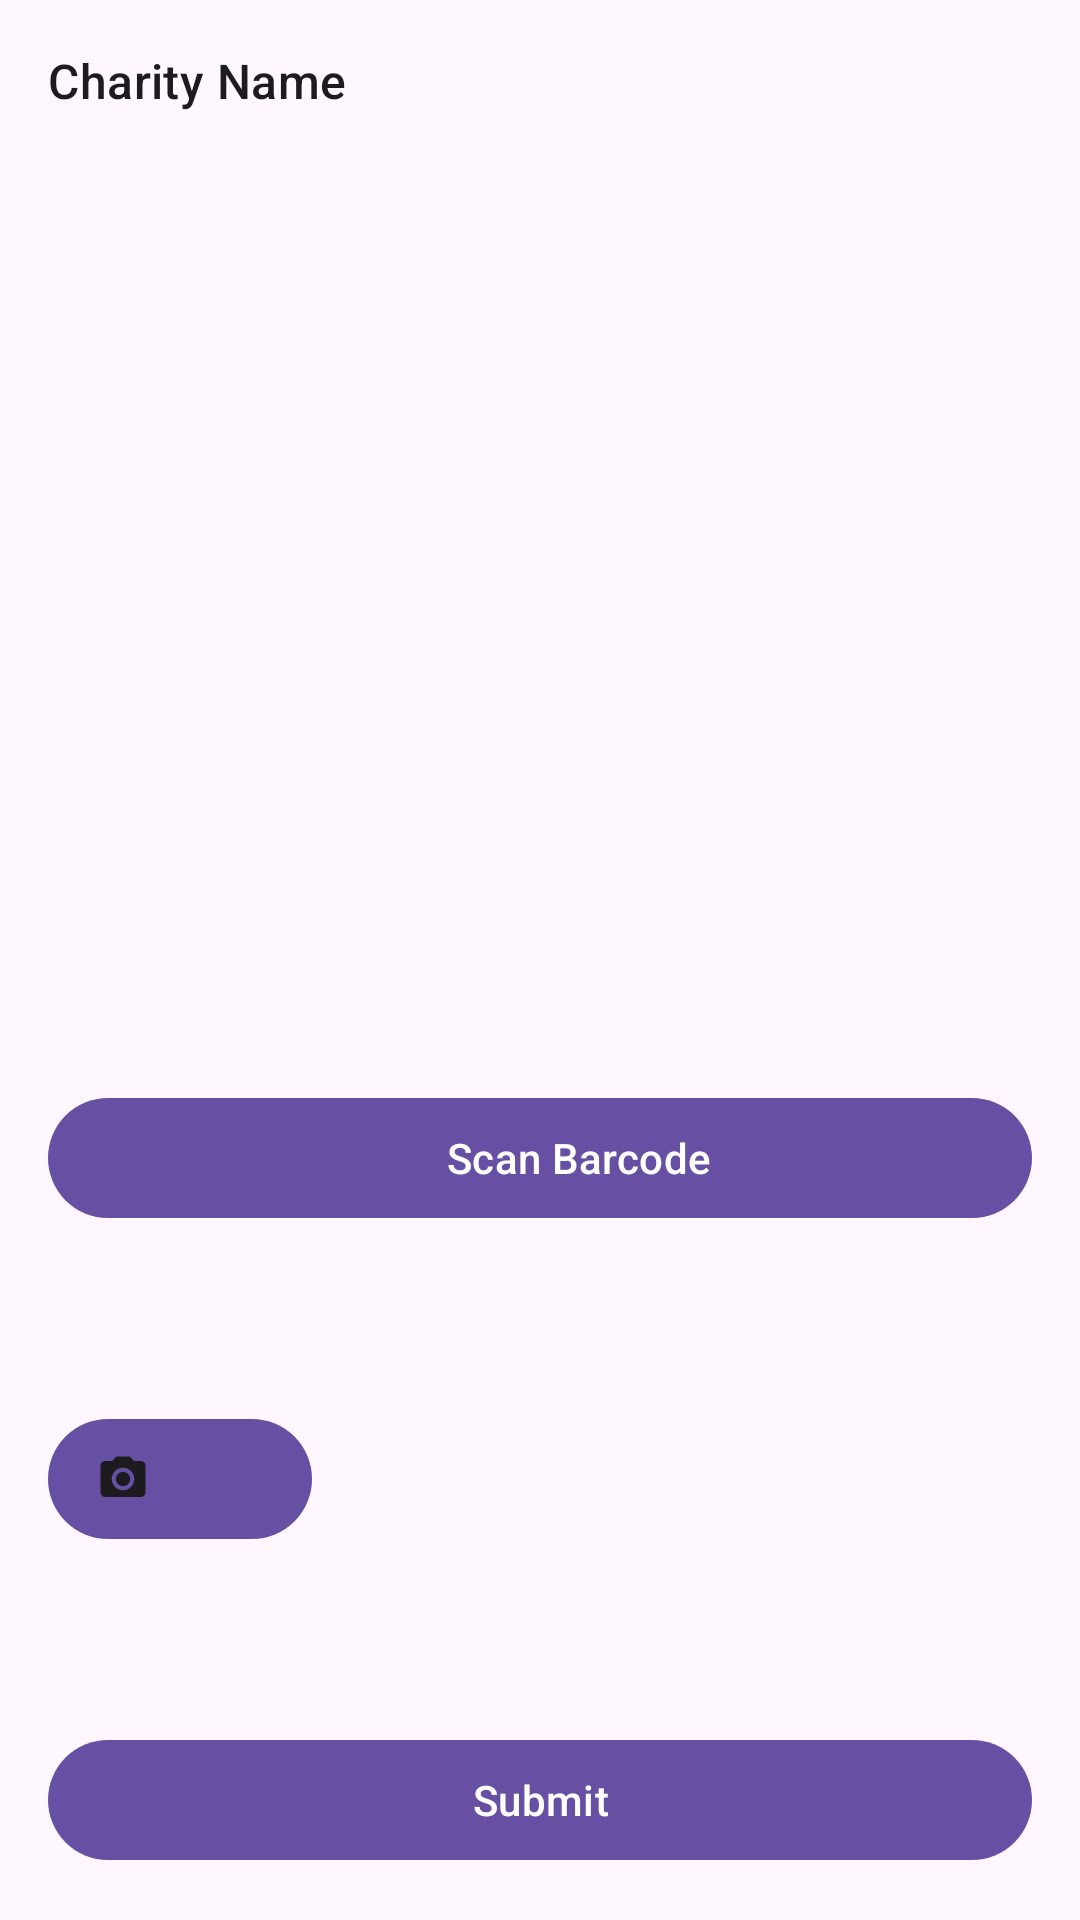

Where to tap for icons on this 1080w x 1920h app screen, as point (x, y):
photo camera: point (180, 1479)
